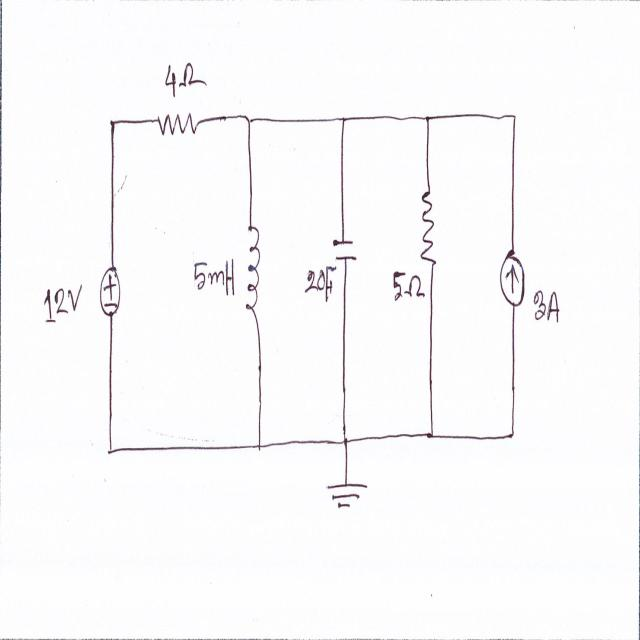capacitor: (332, 232, 358, 276)
current_source: (497, 234, 527, 314)
ground: (324, 474, 369, 520)
inductor: (244, 215, 261, 323)
resistor: (419, 172, 439, 280), (154, 105, 203, 144)
voltage_source: (98, 255, 125, 330)
